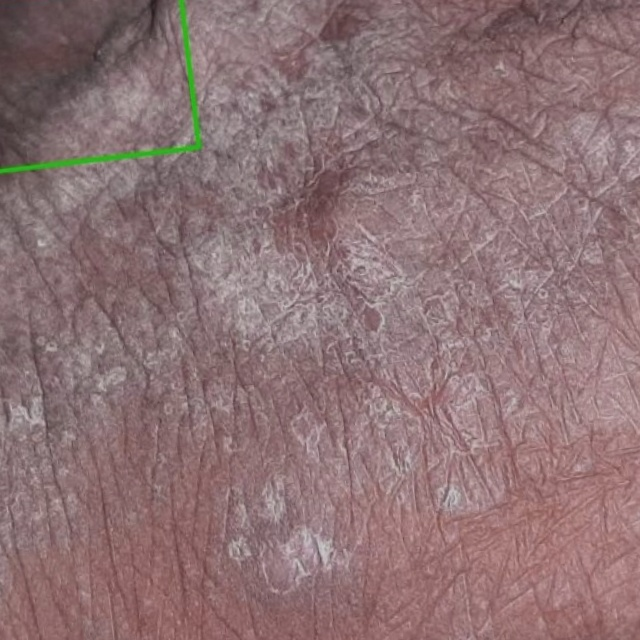Eczema: (0, 0, 198, 171)
